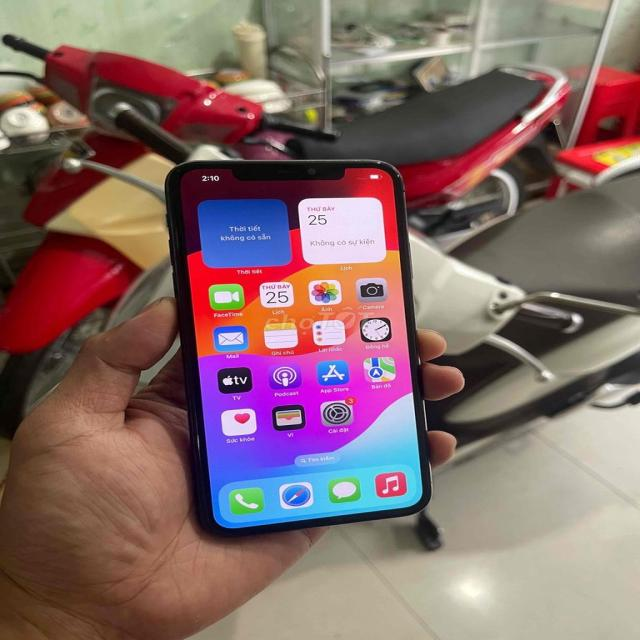gen_11: (167, 160, 431, 536)
